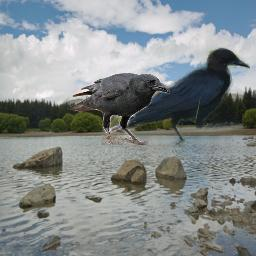Crow: (109, 47, 250, 147), (67, 73, 170, 145)
